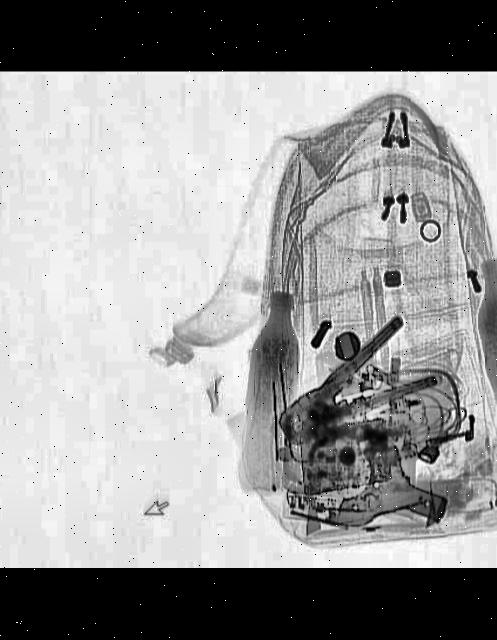Pliers: (256, 318, 450, 467)
